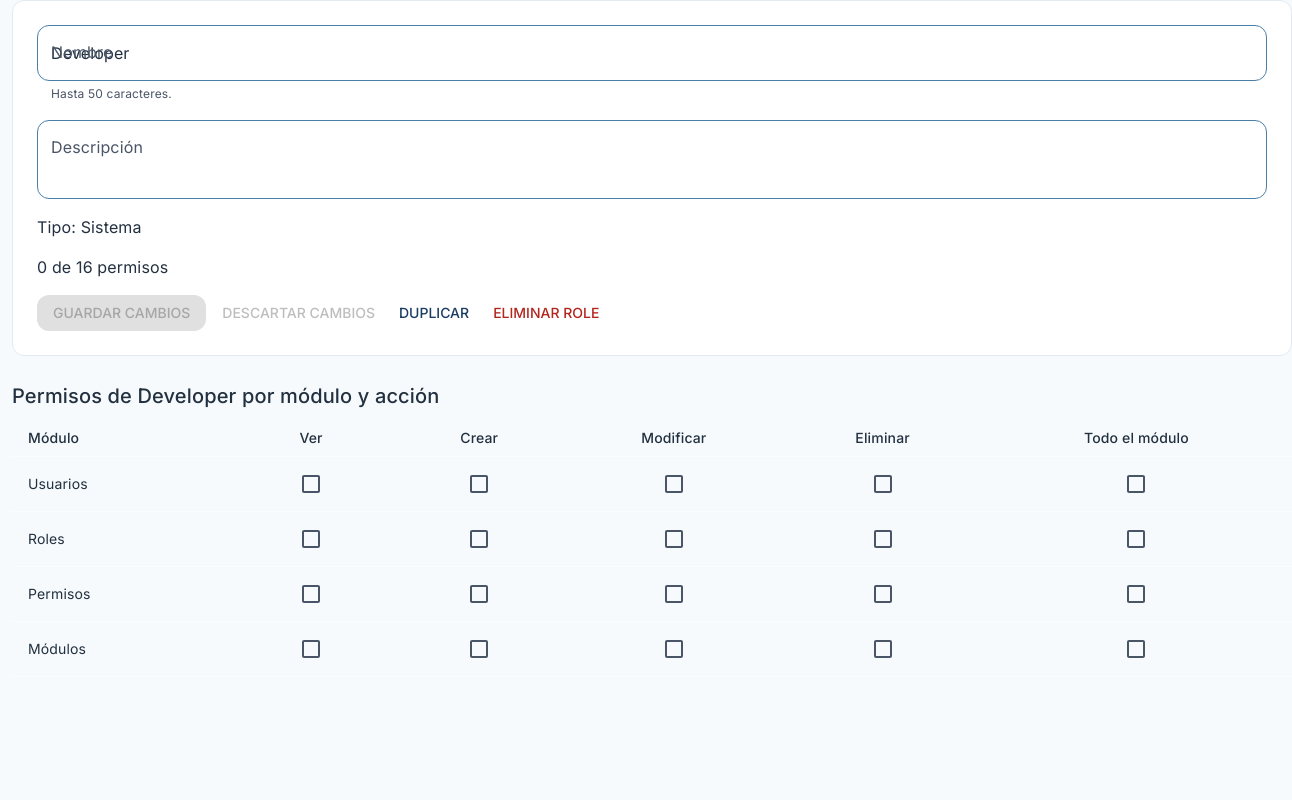
Test: RoleDetailPanel › toggling a permission enables saving, and Guardar cambios persists it (FR-008, FR-010)
expect the field labelled "Nombre" is shown: met, box left=37, top=25, right=1267, bottom=81
Click the checkbox named "Ver de Roles".
click(311, 539)  # box left=299, top=527, right=323, bottom=551
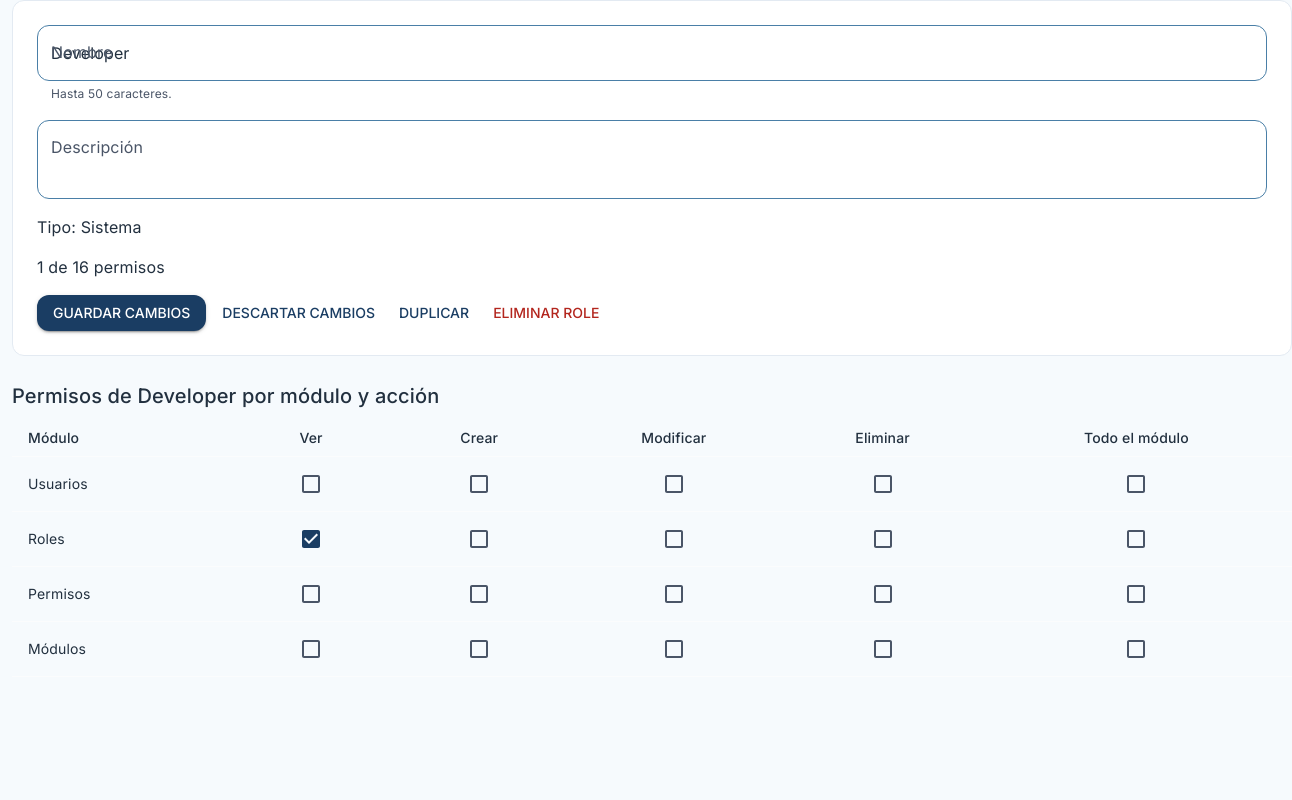
expect the button "Guardar cambios" is enabled: met
Click the button "Guardar cambios".
click(122, 313)  # box left=37, top=295, right=206, bottom=331
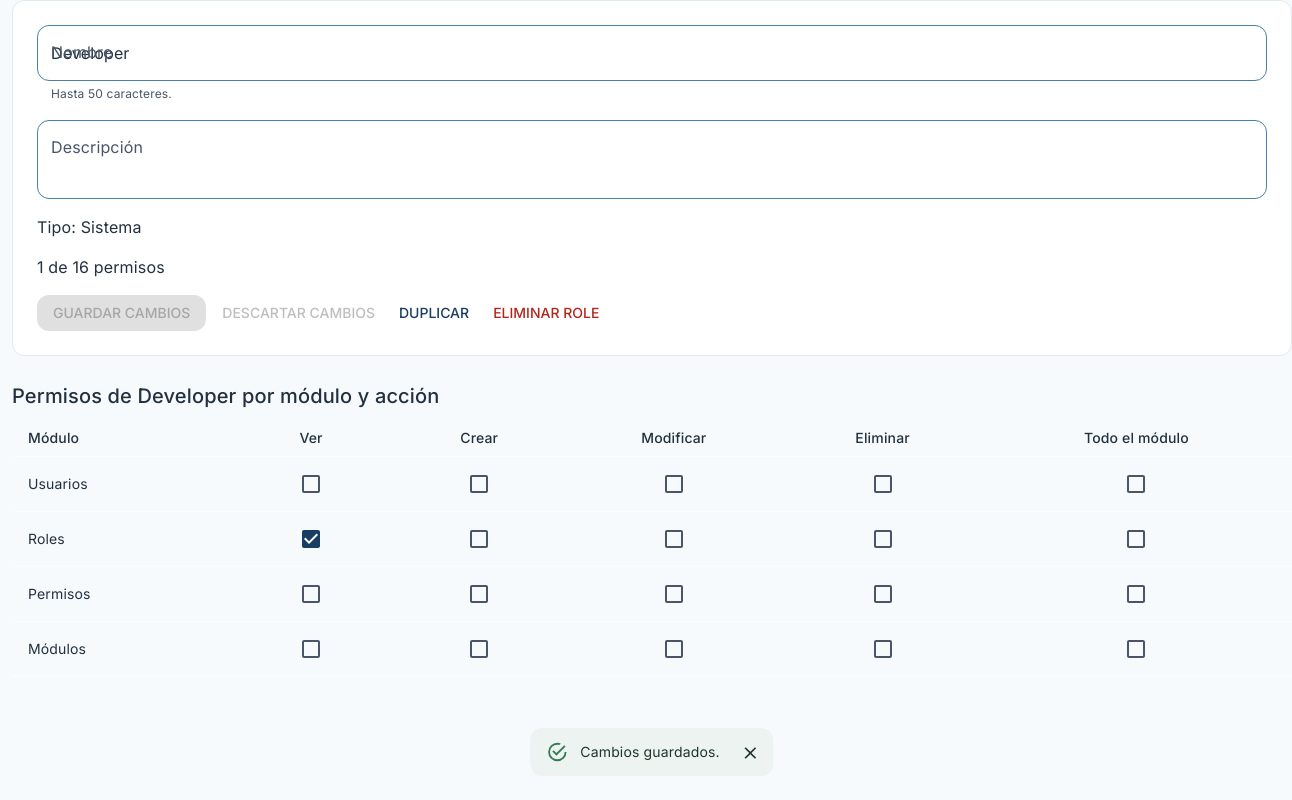
expect the checkbox named "Ver de Roles" is checked: met, box left=299, top=527, right=323, bottom=551
expect the button "Guardar cambios" is disabled: met, box left=37, top=295, right=206, bottom=331
